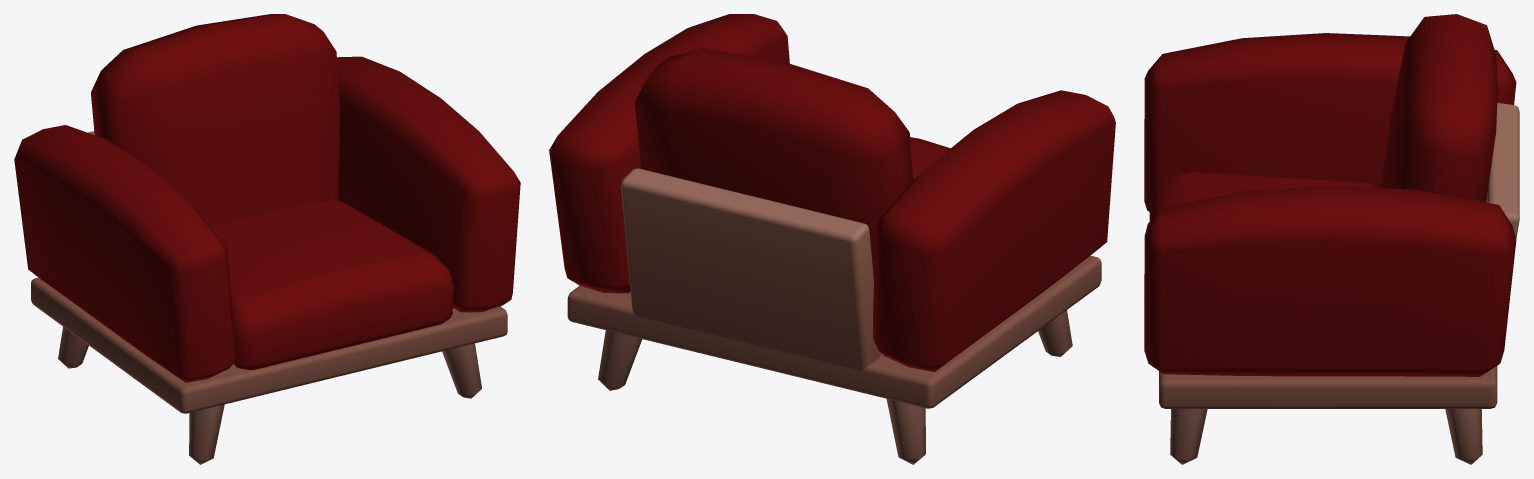
The model's file is Armchair_02.obj.
3 renders of one model, left to right at view 1: azimuth 30°, elevation 25°; view 2: azimuth 150°, elevation 25°; view 3: azimuth 270°, elevation 25°, orthographic. The views are drawn at different scales.
Parts seen in each view (by area): view 1: Armchair_02; view 2: Armchair_02; view 3: Armchair_02.
Boxes of the visible parts, x1,y1,x2,y2 form: Armchair_02: (14,14,520,464); Armchair_02: (549,14,1115,464); Armchair_02: (1144,14,1519,464).
Size of the model in its own units: 1.05 by 0.8659 by 0.854.
Materials: 2 (1 with a texture image).
